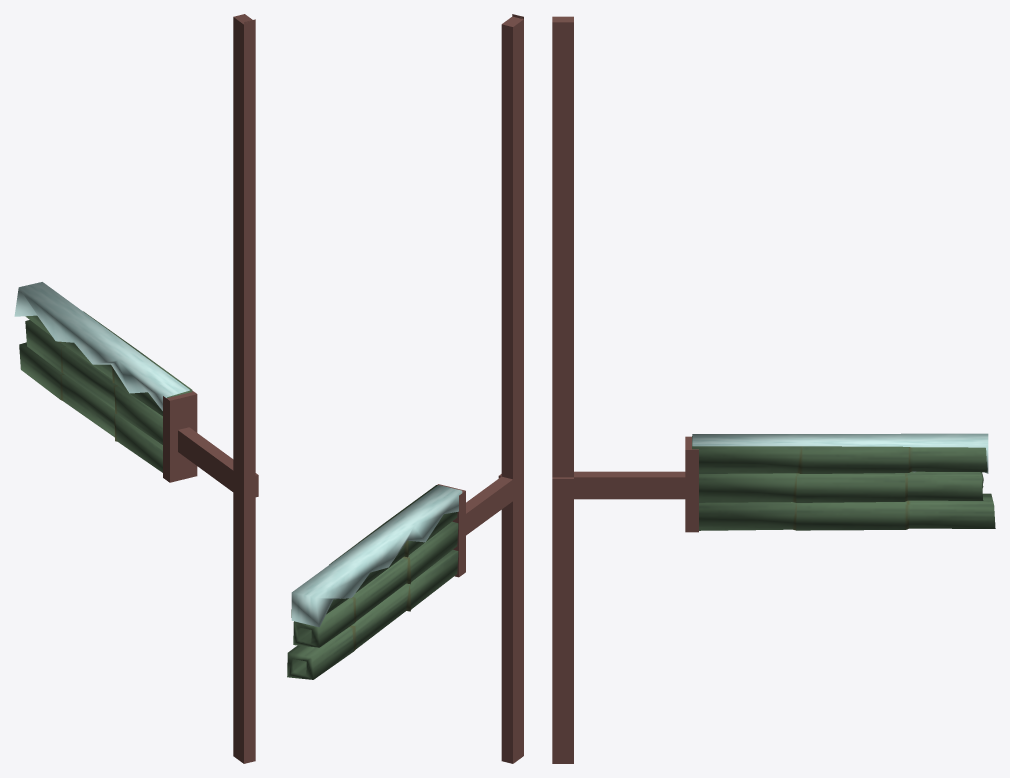
Rendered from bamboo_protectedB_right_3.glb.
3 views of the same model, side by side, from view 1: azimuth 30°, elevation 25°; view 2: azimuth 150°, elevation 25°; view 3: azimuth 270°, elevation 25° (orthographic).
Visible parts, largest first — view 1: Stand.014, Obstacle.011; view 2: Stand.014, Obstacle.011; view 3: Obstacle.011, Stand.014.
Part boxes in pixels (left/top/right/bottom): Stand.014: left=163, top=14, right=258, bottom=763; Obstacle.011: left=14, top=282, right=192, bottom=472; Stand.014: left=437, top=14, right=523, bottom=763; Obstacle.011: left=287, top=485, right=462, bottom=679; Obstacle.011: left=692, top=433, right=995, bottom=530; Stand.014: left=552, top=16, right=698, bottom=763.
Size of the model in its own units: 0.2489 by 5.55 by 2.99.
Materials: 2 (1 with a texture image).
